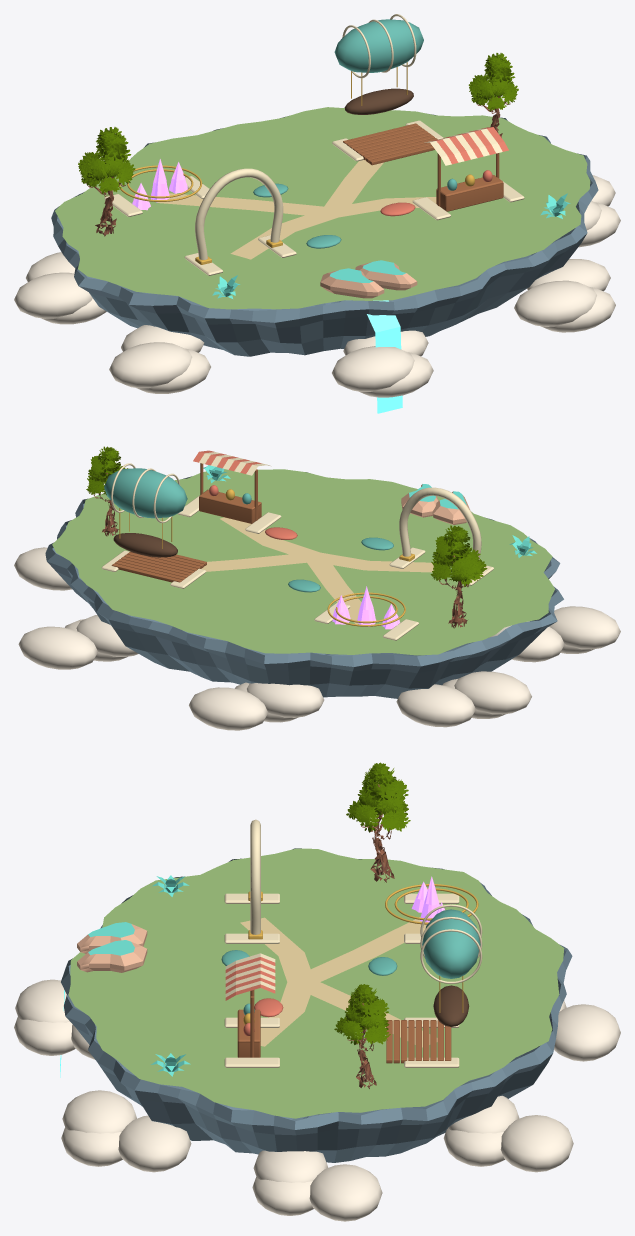
Rendered from lobby.glb.
The picture shows the model from 3 angles, top to bottom: view 1: azimuth 30°, elevation 25°; view 2: azimuth 150°, elevation 25°; view 3: azimuth 270°, elevation 25°; orthographic projection. The views are drawn at different scales.
Visible parts, largest first — view 1: Surface_lobby.001, Scenery_lobby.001, Water_lobby.001; view 2: Surface_lobby.001, Scenery_lobby.001; view 3: Surface_lobby.001, Scenery_lobby.001.
Boxes of the visible parts, <box> form: Surface_lobby.001: <box>51,107,598,356</box>; Scenery_lobby.001: <box>14,14,620,397</box>; Water_lobby.001: <box>367,300,402,413</box>; Surface_lobby.001: <box>45,469,563,698</box>; Scenery_lobby.001: <box>14,446,620,730</box>; Surface_lobby.001: <box>61,848,572,1162</box>; Scenery_lobby.001: <box>14,762,620,1221</box>.
Size of the model in its own units: 45.15 by 16.97 by 37.23.
17 materials, 2 textured.
